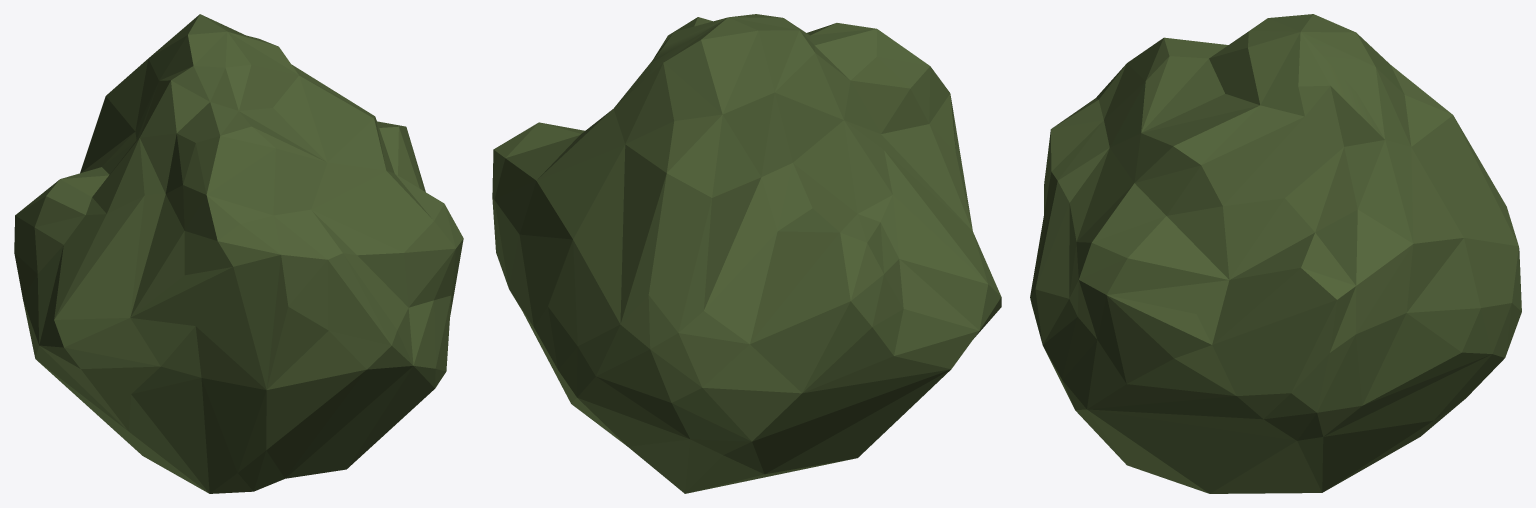
File: SM_Env_Bush_01.fbx
3 renders of one model, left to right at view 1: azimuth 30°, elevation 25°; view 2: azimuth 150°, elevation 25°; view 3: azimuth 270°, elevation 25°, orthographic. The views are drawn at different scales.
Visible parts, largest first — view 1: SM_Env_Bush_01; view 2: SM_Env_Bush_01; view 3: SM_Env_Bush_01.
Boxes of the visible parts, left/top/right/bottom form: SM_Env_Bush_01: left=14, top=14, right=463, bottom=493; SM_Env_Bush_01: left=492, top=14, right=1001, bottom=493; SM_Env_Bush_01: left=1030, top=14, right=1521, bottom=493.
Bounding box in the file's own units: 162 × 146 × 157.
